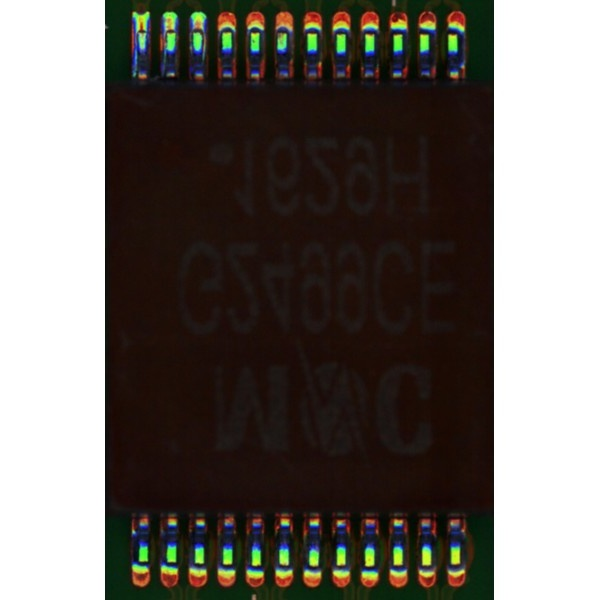Bad_podu: (163, 21, 174, 37), (192, 20, 202, 36), (136, 21, 146, 36)
Bad_qiaojiao: (133, 34, 138, 80), (161, 34, 167, 72), (202, 33, 207, 65)
